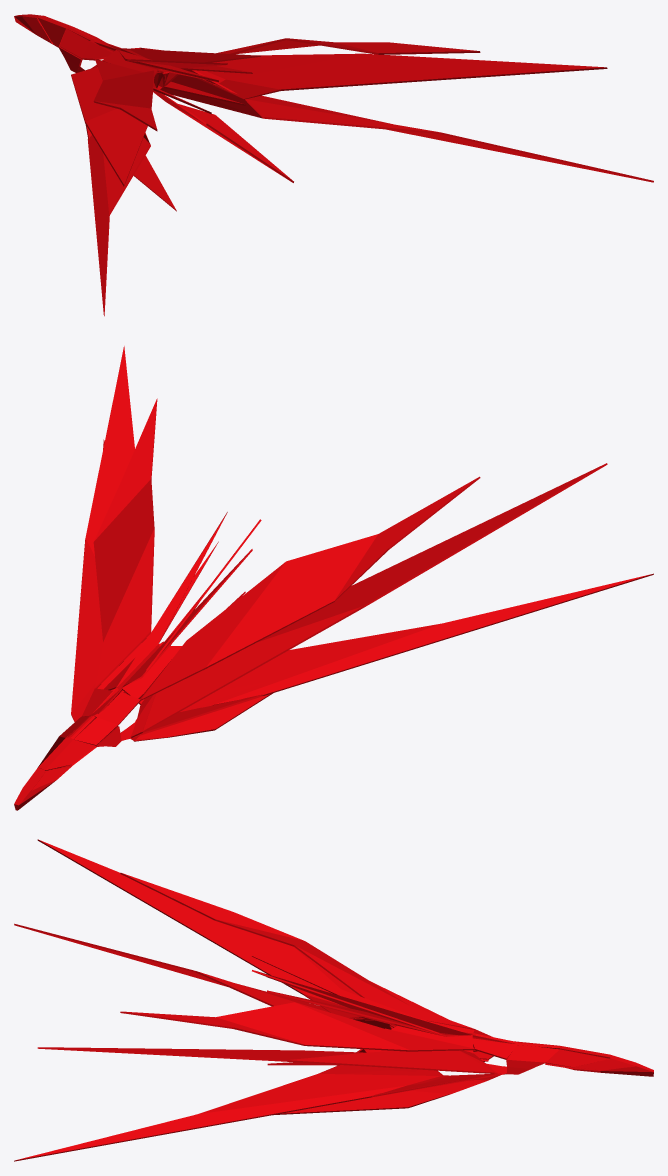
Rendered from concept 1(1).fbx.
3 views of the same model, one above another, from view 1: azimuth 30°, elevation 25°; view 2: azimuth 150°, elevation 25°; view 3: azimuth 270°, elevation 25° (orthographic). The views are drawn at different scales.
Visible parts, largest first — view 1: Plano; view 2: Plano; view 3: Plano.
Part boxes in pixels (box(x1,y1,x2,y2)): Plano: box(14, 14, 653, 316); Plano: box(14, 346, 653, 810); Plano: box(14, 839, 653, 1161).
Bounding box in the file's own units: 1031 × 301 × 1177.
